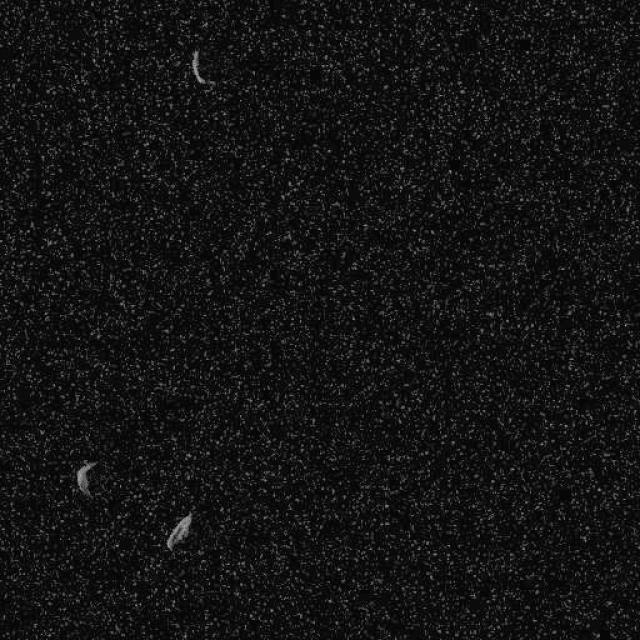D2: (165, 511, 193, 551), (189, 46, 216, 86), (75, 459, 97, 496)
